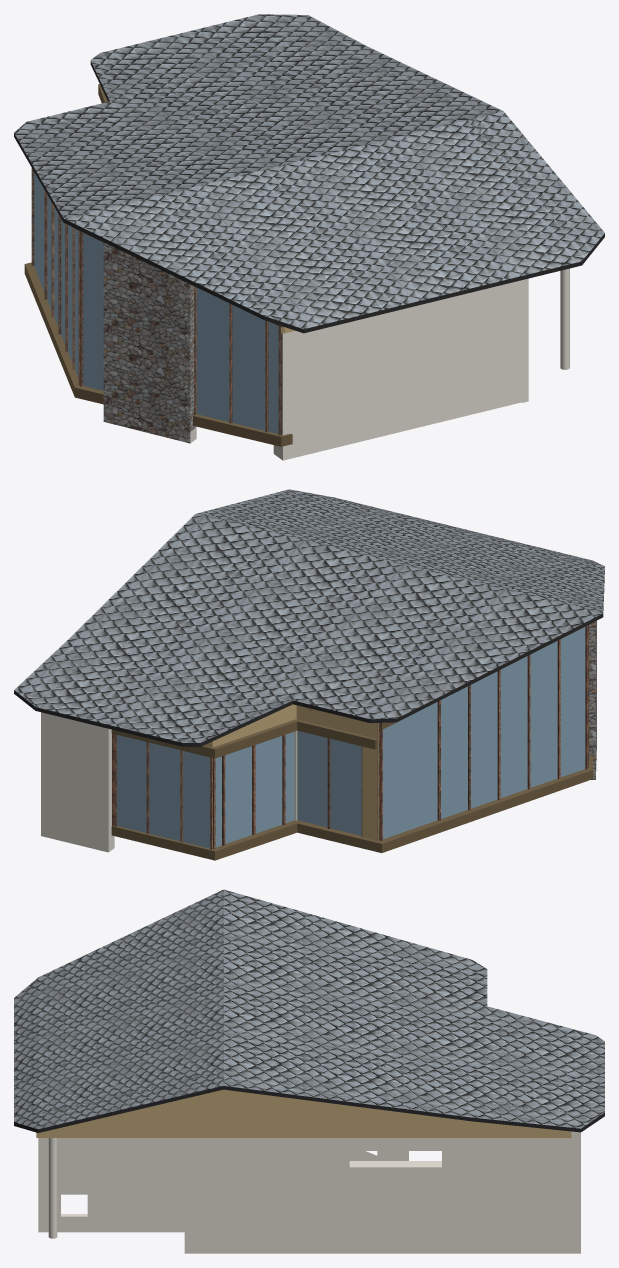
File: MaisonF.obj
3 views of the same model, one above another, from view 1: azimuth 30°, elevation 25°; view 2: azimuth 150°, elevation 25°; view 3: azimuth 270°, elevation 25° (orthographic). The views are drawn at different scales.
Parts seen in each view (by area): view 1: Maison; view 2: Maison; view 3: Maison.
Part boxes in pixels (left/top/right/bottom): Maison: left=14, top=14, right=604, bottom=460; Maison: left=14, top=489, right=604, bottom=860; Maison: left=14, top=889, right=604, bottom=1253.
Bounding box in the file's own units: 12.89 × 5.52 × 16.39.
Materials: 11 (6 with a texture image).
